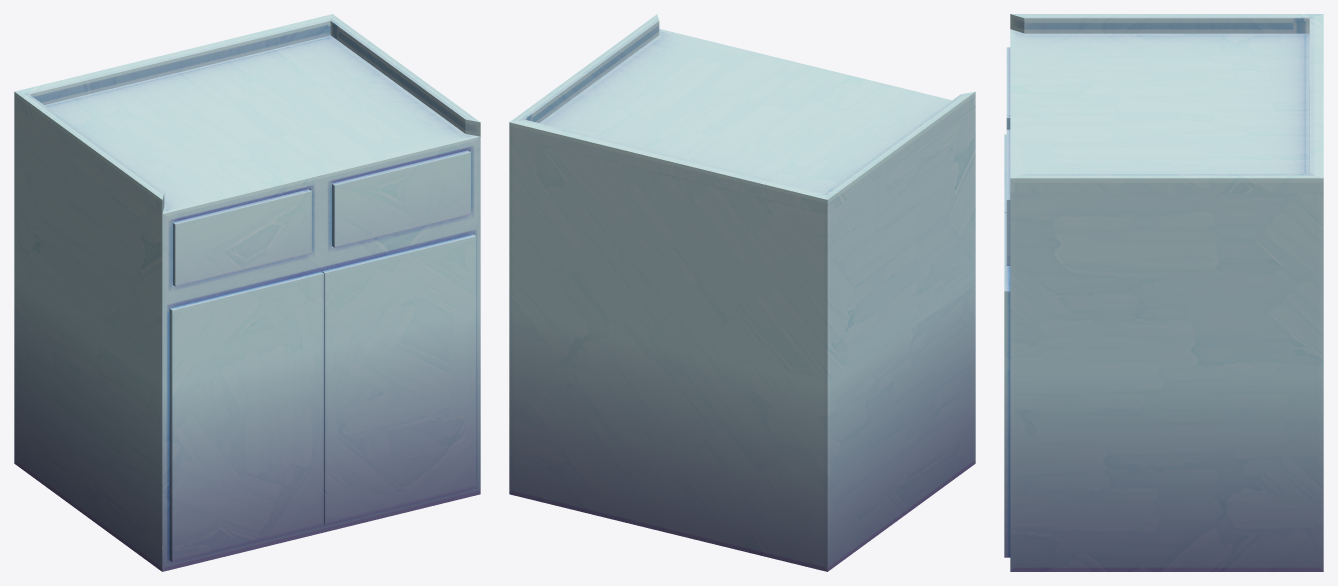
File: ArmarioFerramentas.fbx
The picture shows the model from 3 angles, left to right: view 1: azimuth 30°, elevation 25°; view 2: azimuth 150°, elevation 25°; view 3: azimuth 270°, elevation 25°; orthographic projection. The views are drawn at different scales.
Visible parts, largest first — view 1: ArmarioFerramentas, ToolLockerDoor_Right, ToolLockerDoor_Left, ToolLockerDrawer_Right, ToolLockerDrawer_Left; view 2: ArmarioFerramentas; view 3: ArmarioFerramentas, ToolLockerDoor_Left, ToolLockerDrawer_Left, ToolLockerDrawer_Right.
Boxes of the visible parts, x1=… form: ArmarioFerramentas: x1=14, y1=14, x2=480, y2=571; ToolLockerDoor_Right: x1=169, y1=271, x2=323, y2=562; ToolLockerDoor_Left: x1=321, y1=234, x2=476, y2=524; ToolLockerDrawer_Right: x1=173, y1=189, x2=311, y2=286; ToolLockerDrawer_Left: x1=332, y1=150, x2=470, y2=247; ArmarioFerramentas: x1=509, y1=14, x2=975, y2=571; ArmarioFerramentas: x1=1010, y1=14, x2=1323, y2=571; ToolLockerDoor_Left: x1=1004, y1=213, x2=1010, y2=557; ToolLockerDrawer_Left: x1=1006, y1=129, x2=1010, y2=265; ToolLockerDrawer_Right: x1=1006, y1=47, x2=1010, y2=129.
Size of the model in its own units: 0.745 by 0.8321 by 0.6117.
